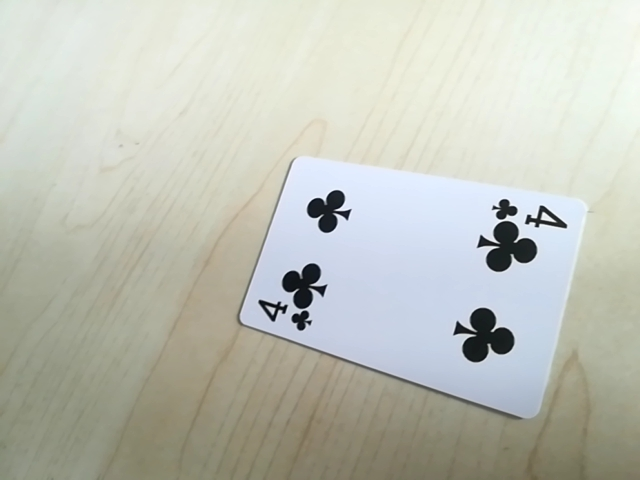mh 4: (492, 195, 568, 229), (252, 300, 317, 332)
